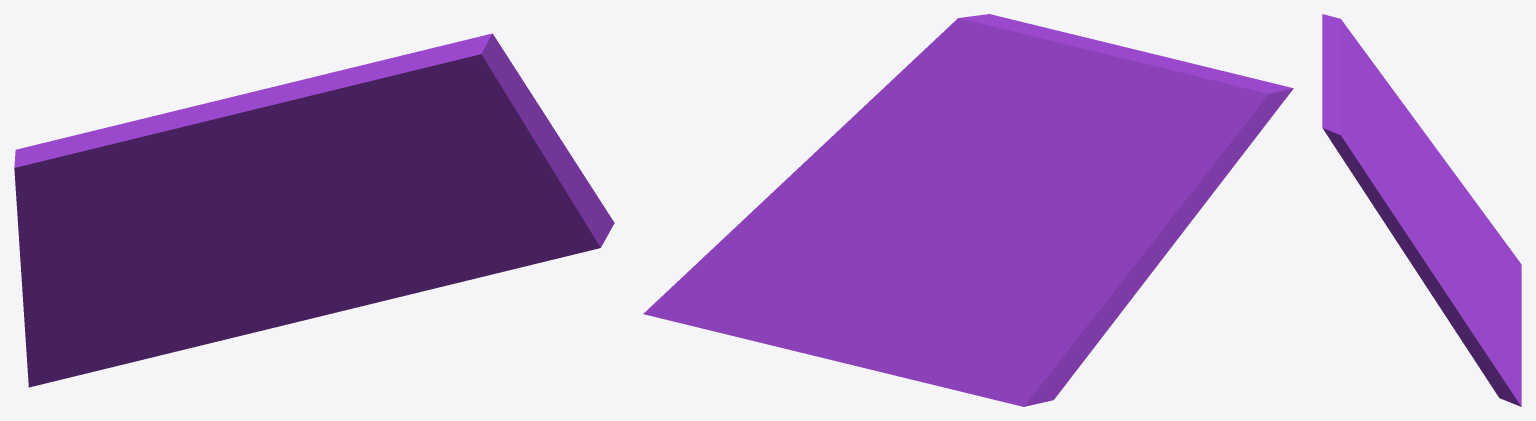
Rendered from Window_112.fbx.
The picture shows the model from 3 angles, left to right: view 1: azimuth 30°, elevation 25°; view 2: azimuth 150°, elevation 25°; view 3: azimuth 270°, elevation 25°; orthographic projection. The views are drawn at different scales.
Parts seen in each view (by area): view 1: Window_112; view 2: Window_112; view 3: Window_112.
Part boxes in pixels (x1,y1,x2,y2): Window_112: (14, 33, 614, 387); Window_112: (643, 14, 1293, 406); Window_112: (1322, 14, 1521, 406).
Size of the model in its own units: 1753 by 829 by 756.
